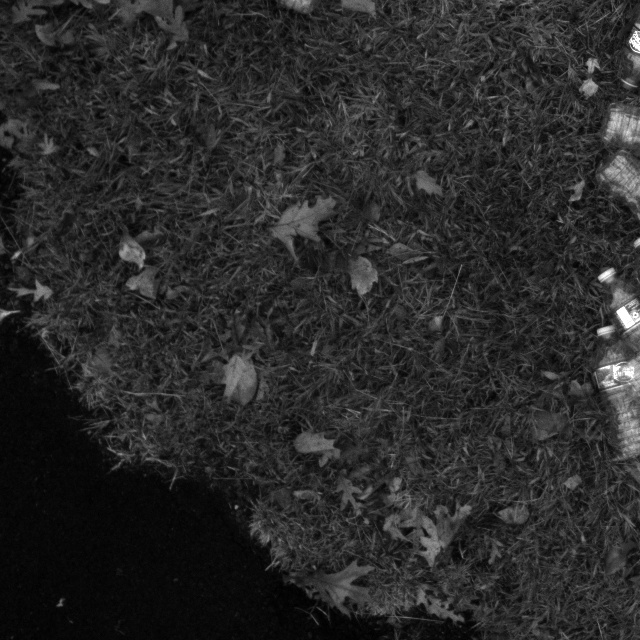bottle: (590, 321, 640, 453)
